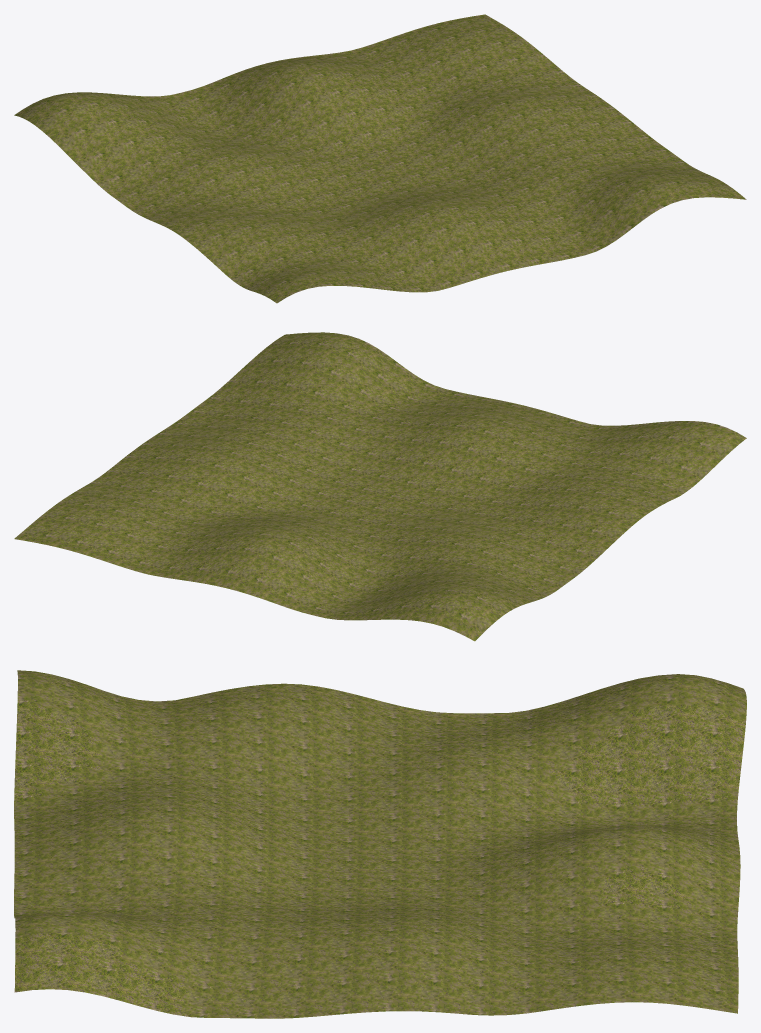
The model's file is terrain_2-BtXSWZh4.glb.
3 renders of one model, top to bottom at view 1: azimuth 30°, elevation 25°; view 2: azimuth 150°, elevation 25°; view 3: azimuth 270°, elevation 25°, orthographic. The views are drawn at different scales.
Visible parts, largest first — view 1: Plane; view 2: Plane; view 3: Plane.
Part boxes in pixels (box(x1,y1,x2,y2)): Plane: box(14, 14, 746, 303); Plane: box(14, 332, 746, 641); Plane: box(14, 670, 746, 1018).
Size of the model in its own units: 205 by 17.02 by 203.
Materials: 1 (1 with a texture image).
